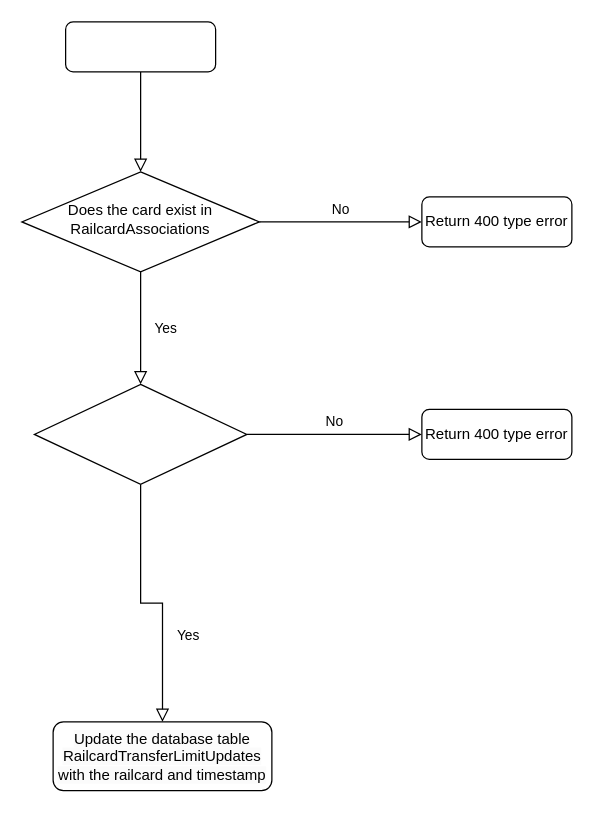
Some shapes in this 594 by 813 pixel diagram are drawn without their labels. The shapes that lost their labels are listed below. From the top down, each one's centre as x and y in pixels, then its label:
At pixel 140 46: "CASS Agent Make Limit request".
At pixel 140 433: "Has the Railcard reached its limit based on the RailcardAssociations table".
